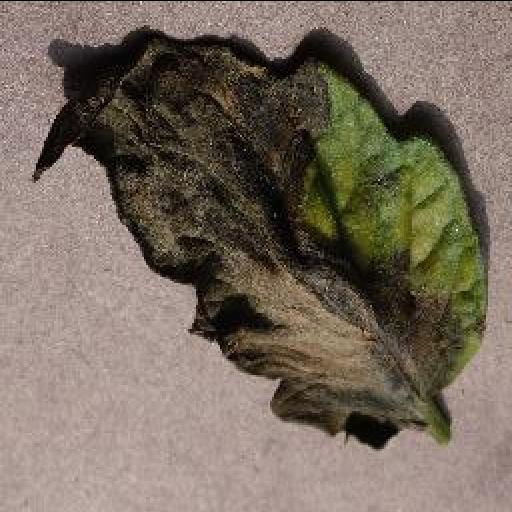disease_tomato: (31, 35, 485, 449)
